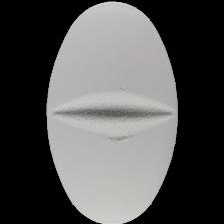0591-2369: (0, 0, 224, 224)
